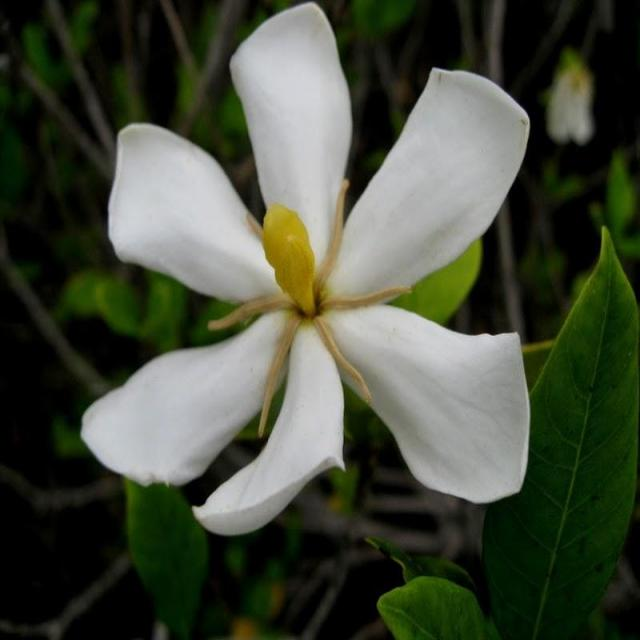organic waste: (53, 18, 570, 549)
